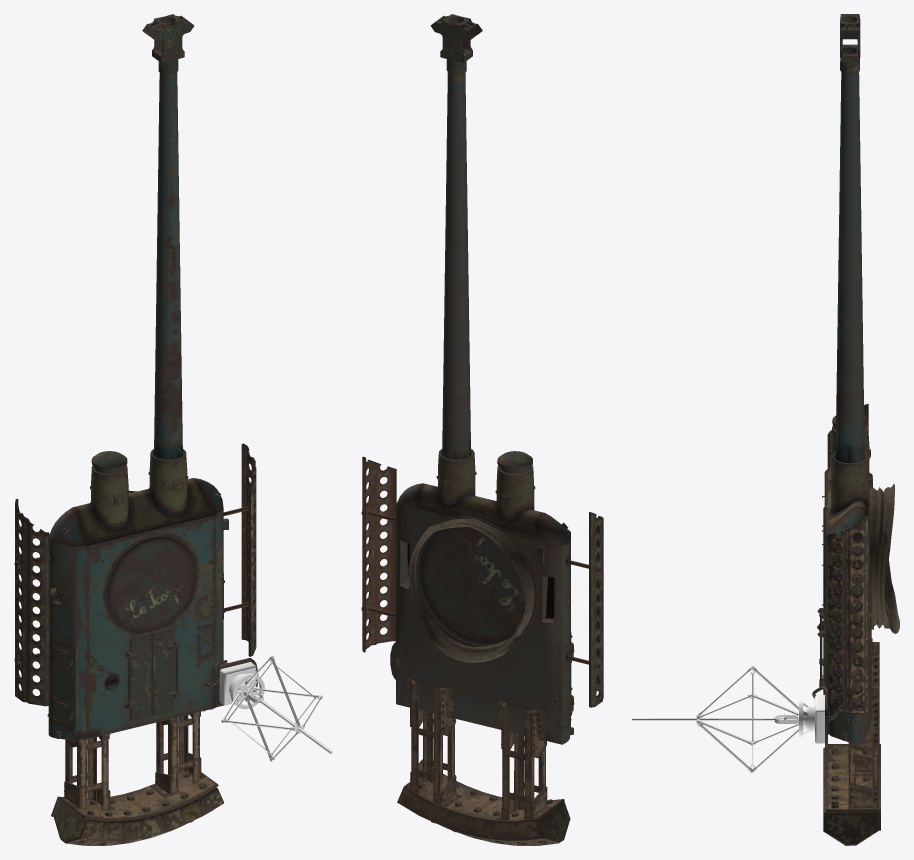
File: Gun_03.glb
The picture shows the model from 3 angles, left to right: view 1: azimuth 30°, elevation 25°; view 2: azimuth 150°, elevation 25°; view 3: azimuth 270°, elevation 25°; orthographic projection.
Visible parts, largest first — view 1: set_0_group_0, set_0_group_1; view 2: set_0_group_0; view 3: set_0_group_0, set_0_group_1.
Boxes of the visible parts, <box> form: set_0_group_0: <box>14,14,258,845</box>; set_0_group_1: <box>219,656,332,761</box>; set_0_group_0: <box>361,14,603,845</box>; set_0_group_0: <box>812,14,899,845</box>; set_0_group_1: <box>632,666,824,772</box>.
Size of the model in its own units: 1.94 by 5.94 by 1.76.
Materials: 2 (1 with a texture image).
